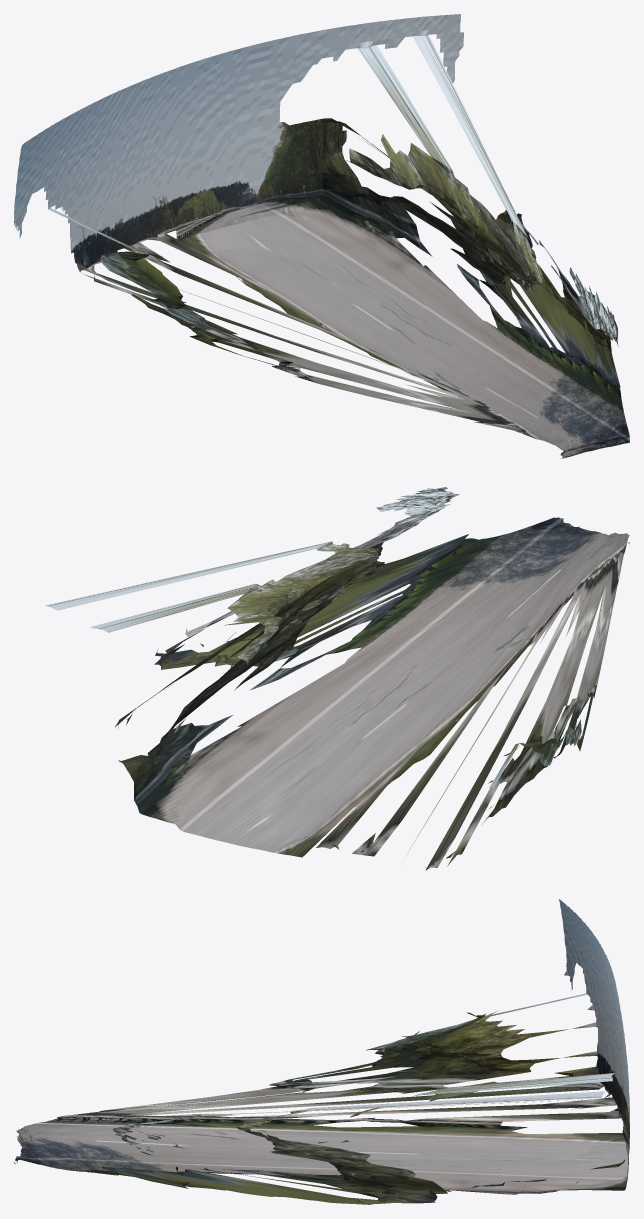
3 renders of one model, top to bottom at view 1: azimuth 30°, elevation 25°; view 2: azimuth 150°, elevation 25°; view 3: azimuth 270°, elevation 25°, orthographic. The views are drawn at different scales.
Visible parts, largest first — view 1: defaultobject; view 2: defaultobject; view 3: defaultobject.
Part boxes in pixels (left/top/right/bottom): defaultobject: left=14, top=14, right=629, bottom=458; defaultobject: left=45, top=487, right=629, bottom=870; defaultobject: left=14, top=899, right=629, bottom=1204.
Size of the model in its own units: 34.7 by 13.03 by 44.51.
1 material, 1 textured.
